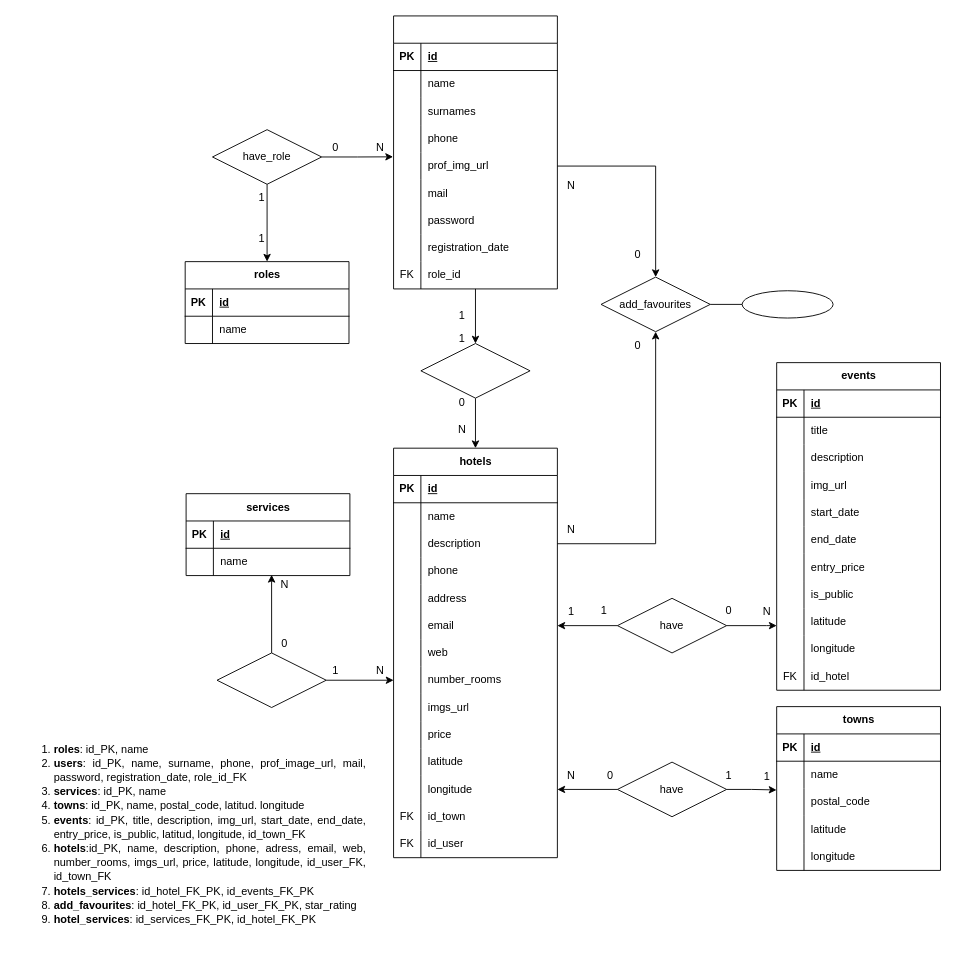
Image size: 956x969. Some labels were removed from this diagram. The shapes that lost their labels are listed below. From the top down, each one's box as (x1, y1, x2, y2) in pixels, then its label:
(393, 15, 557, 289): users
(741, 290, 833, 318): star_rating
(420, 343, 530, 398): manage
(216, 652, 326, 708): hotel_services
